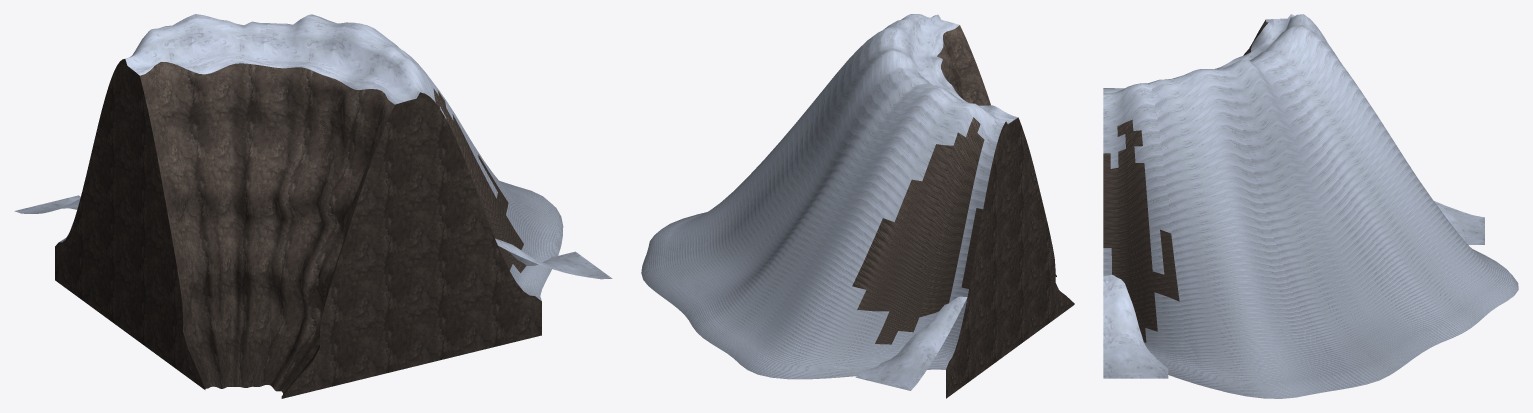
The model's file is seacliff_inner_h8_v5_winter.glb.
The picture shows the model from 3 angles, left to right: view 1: azimuth 30°, elevation 25°; view 2: azimuth 150°, elevation 25°; view 3: azimuth 270°, elevation 25°; orthographic projection. The views are drawn at different scales.
Parts seen in each view (by area): view 1: seacliff_inner_h8; view 2: seacliff_inner_h8; view 3: seacliff_inner_h8.
Part boxes in pixels (box(x1,y1,x2,y2)): seacliff_inner_h8: box(14, 14, 612, 398); seacliff_inner_h8: box(641, 14, 1074, 398); seacliff_inner_h8: box(1103, 14, 1518, 398).
Bounding box in the file's own units: 15.44 × 10.6 × 15.33.
Materials: 2 (2 with a texture image).
